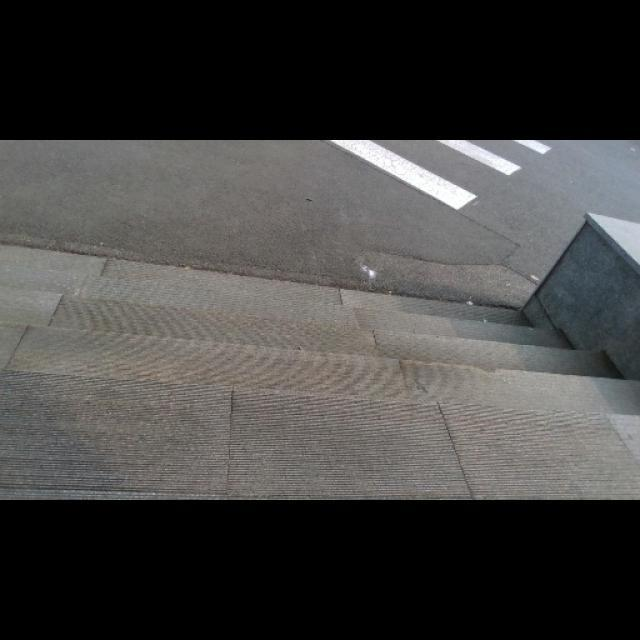stair: (12, 246, 610, 494)
